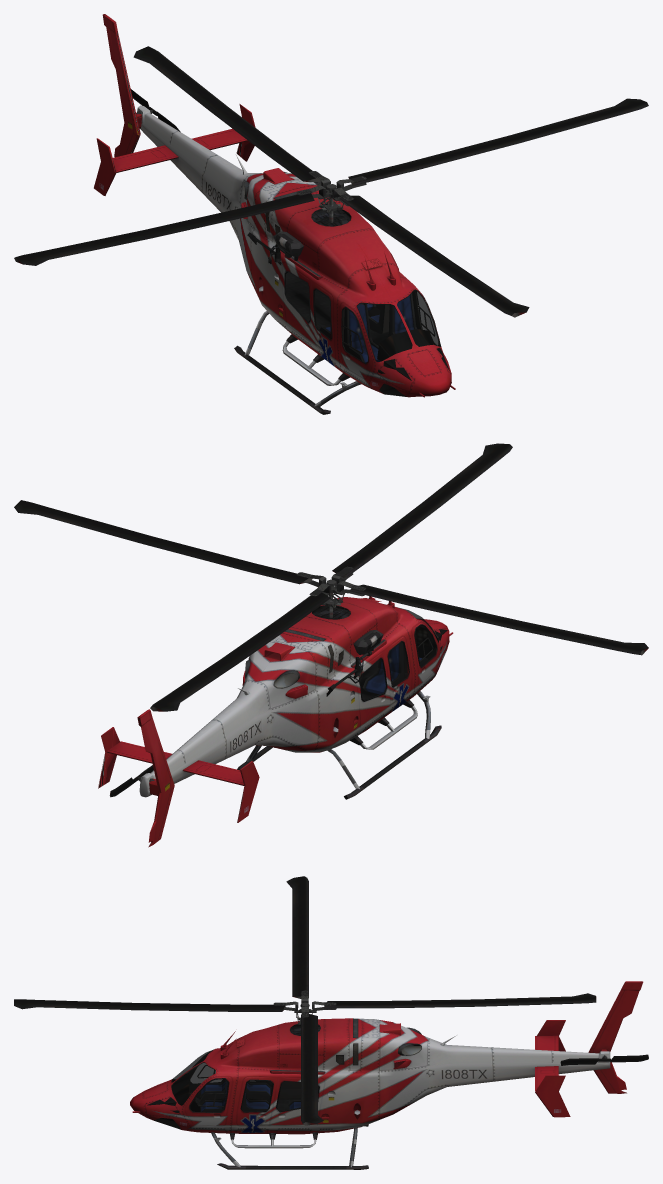
3 views of the same model, one above another, from view 1: azimuth 30°, elevation 25°; view 2: azimuth 150°, elevation 25°; view 3: azimuth 270°, elevation 25° (orthographic). The views are drawn at different scales.
Visible parts, largest first — view 1: Object_3.003, Object_2.003; view 2: Object_3.003, Object_2.003; view 3: Object_3.003, Object_2.003.
Part boxes in pixels (left/top/right/bottom): Object_3.003: left=14, top=14, right=648, bottom=414; Object_2.003: left=285, top=272, right=440, bottom=396; Object_3.003: left=14, top=443, right=648, bottom=847; Object_2.003: left=360, top=604, right=446, bottom=700; Object_3.003: left=14, top=876, right=648, bottom=1169; Object_2.003: left=154, top=1049, right=318, bottom=1129.
Bounding box in the file's own units: 11.02 × 3.35 × 12.02.
2 materials, 2 textured.
